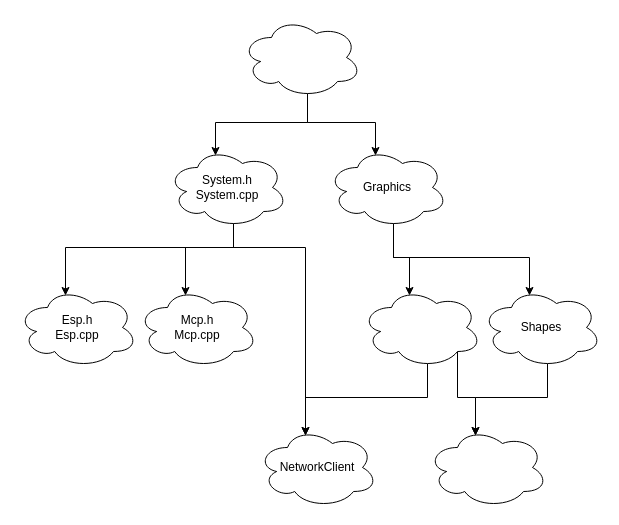
Some shapes in this 619 by 525 pixel diagram are drawn without their labels. The centre of each missing label's shape, as x and y in pixels:
AdafruitGFX: the point at 487,467
Image.h ImageBMP.cpp ImageJPEG.cpp ImagePNG.cpp ImageDither.cpp: the point at 421,327
Inkplate.h Inkplate.cpp: the point at 301,57
